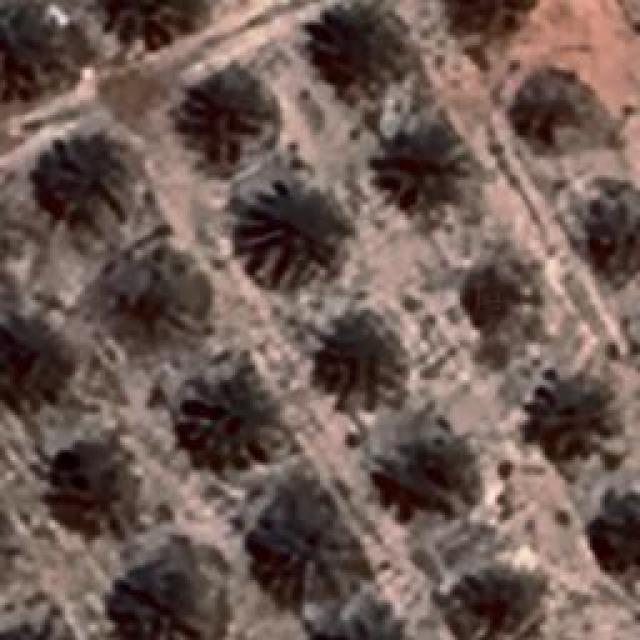PalmTree: (53, 79, 614, 542), (89, 18, 489, 79), (168, 68, 274, 164), (521, 368, 621, 464), (255, 510, 360, 600), (370, 122, 468, 215), (35, 126, 123, 229), (308, 306, 402, 402), (175, 382, 280, 466), (240, 188, 340, 272), (301, 0, 403, 82), (376, 438, 476, 514), (0, 321, 75, 419), (102, 567, 202, 640), (440, 574, 542, 638), (0, 5, 70, 95), (108, 258, 190, 334), (46, 450, 129, 525), (99, 0, 209, 55), (516, 70, 594, 145), (455, 262, 535, 326), (583, 184, 636, 276), (0, 618, 67, 640), (0, 622, 71, 640)
